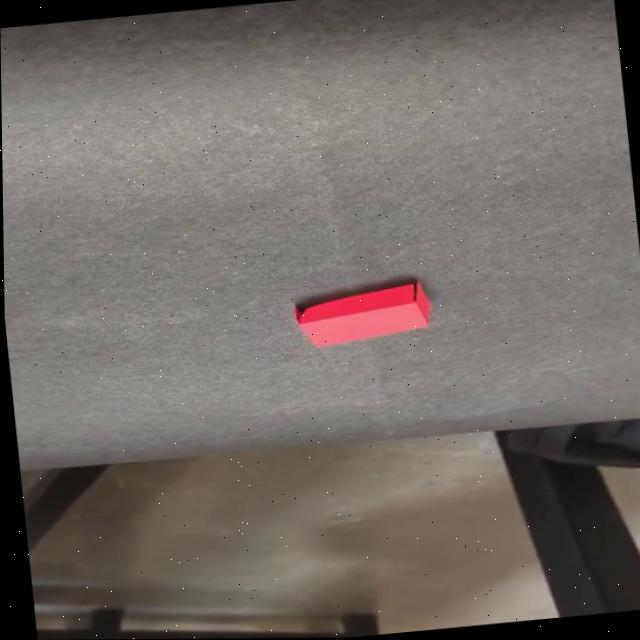red block: (290, 277, 436, 350)
